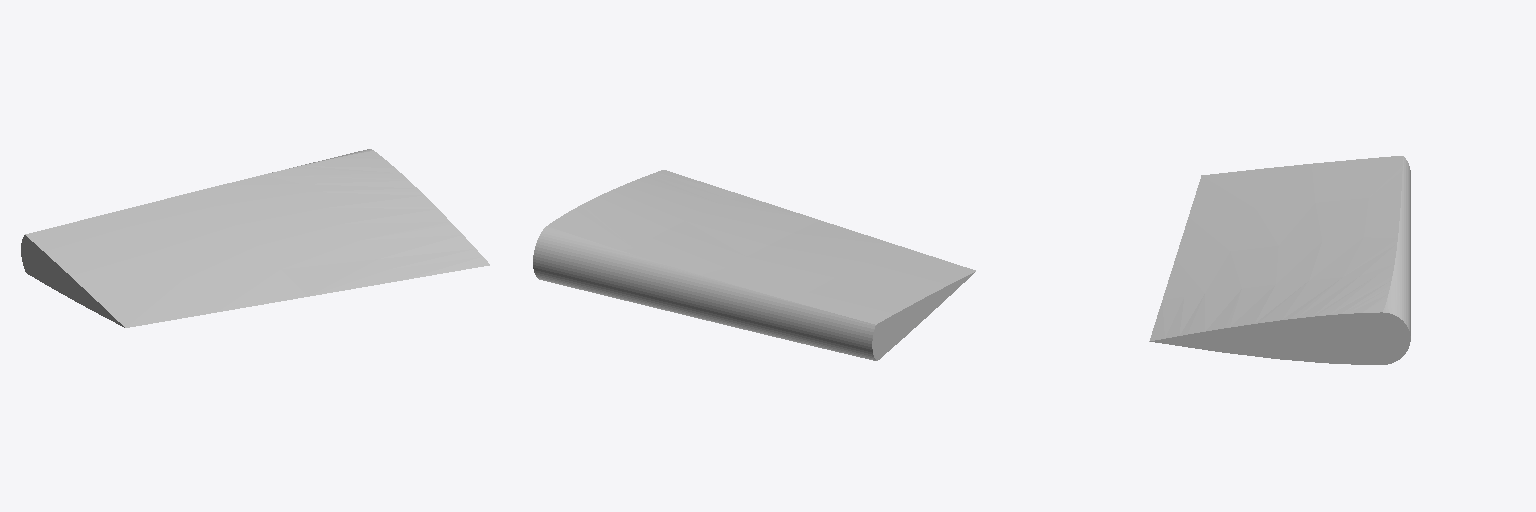
The model's file is LeftAileron.obj.
3 views of the same model, side by side, from view 1: azimuth 30°, elevation 25°; view 2: azimuth 150°, elevation 25°; view 3: azimuth 270°, elevation 25° (orthographic).
Parts seen in each view (by area): view 1: mesh2, mesh4; view 2: mesh2, mesh1, mesh4; view 3: mesh2, mesh0, mesh1.
Boxes of the visible parts, box(x1,y1,x2,y2) form: mesh2: box(25, 151, 489, 327); mesh4: box(21, 235, 124, 327); mesh2: box(548, 170, 975, 324); mesh1: box(533, 226, 875, 360); mesh4: box(872, 272, 974, 360); mesh2: box(1149, 156, 1402, 341); mesh0: box(1150, 312, 1410, 364); mesh1: box(1383, 156, 1410, 335).
Size of the model in its own units: 1.94 by 0.2884 by 1.3.